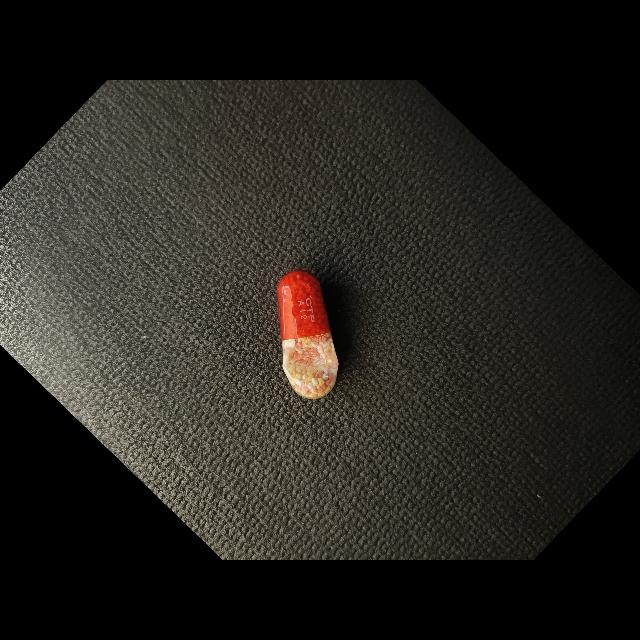Defective Capsule: (277, 270, 339, 399)
